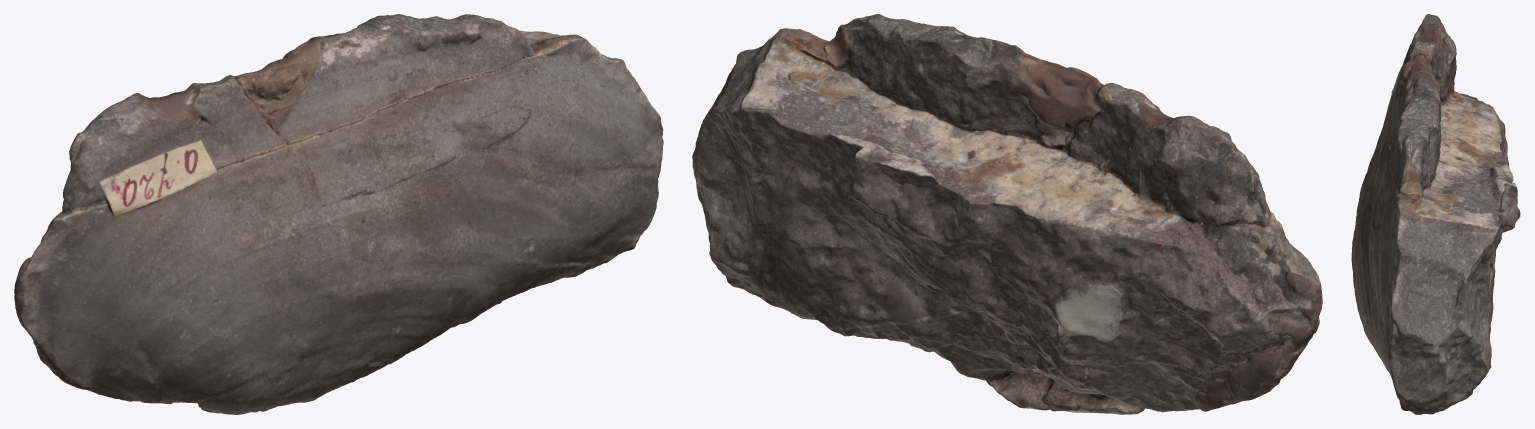
Rendered from EWS0004001.glb.
The picture shows the model from 3 angles, left to right: view 1: azimuth 30°, elevation 25°; view 2: azimuth 150°, elevation 25°; view 3: azimuth 270°, elevation 25°; orthographic projection. The views are drawn at different scales.
Parts seen in each view (by area): view 1: input; view 2: input; view 3: input.
Boxes of the visible parts, box(x1,y1,x2,y2) form: input: box(14, 14, 663, 414); input: box(692, 14, 1322, 414); input: box(1351, 14, 1520, 414).
Bounding box in the file's own units: 0.1164 × 0.0629 × 0.0337.
1 material, 1 textured.
